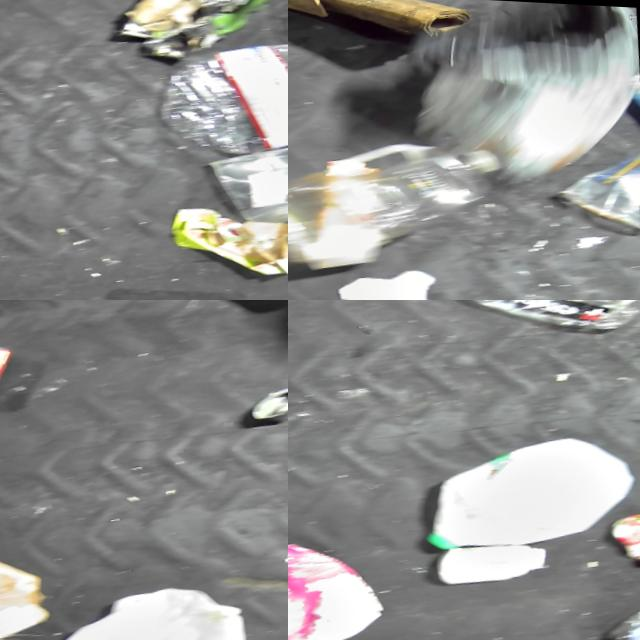can: (609, 495, 640, 569), (246, 375, 288, 425), (0, 337, 25, 411)
milk_jug: (417, 416, 640, 561), (34, 568, 268, 640), (288, 254, 459, 300)
non_white_jug: (288, 520, 405, 640)
plastic_bottle: (424, 300, 640, 353)
